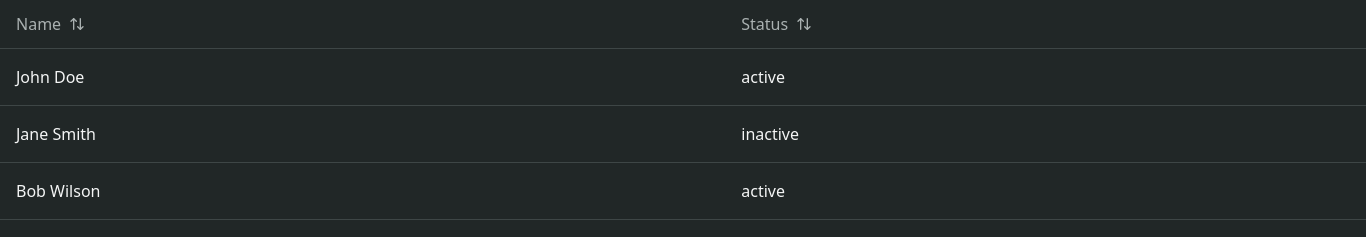
DataTable › Sorting functionality › sorts data in ascending order when column header is clicked
Click the button "Name": (51,24) [16,12,85,36]
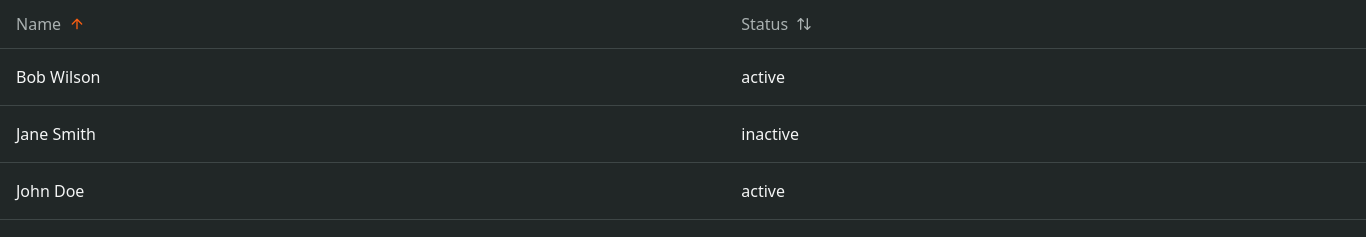
Expected: the text "Jane Smith" is shown, [16,123,96,145]
Now the text "Bob Wilson" is shown, box [16,66,100,88]
Now the text "John Doe" is shown, box [16,180,84,202]
